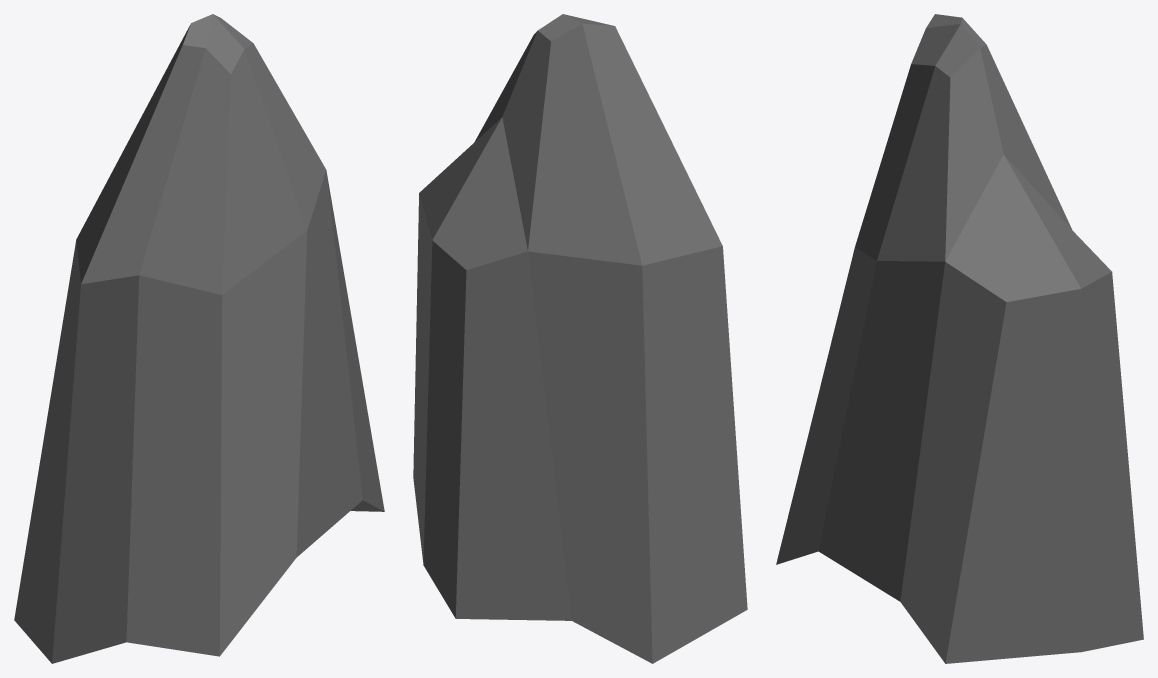
Rendered from M_Rock_Obstacle_4.fbx.
3 renders of one model, left to right at view 1: azimuth 30°, elevation 25°; view 2: azimuth 150°, elevation 25°; view 3: azimuth 270°, elevation 25°, orthographic. The views are drawn at different scales.
Visible parts, largest first — view 1: M_Rock_Obstacle_4; view 2: M_Rock_Obstacle_4; view 3: M_Rock_Obstacle_4.
Boxes of the visible parts, bbox=[...] form: M_Rock_Obstacle_4: bbox=[14, 14, 384, 663]; M_Rock_Obstacle_4: bbox=[413, 14, 747, 663]; M_Rock_Obstacle_4: bbox=[776, 14, 1143, 663].
Size of the model in its own units: 369 by 628 by 329.
